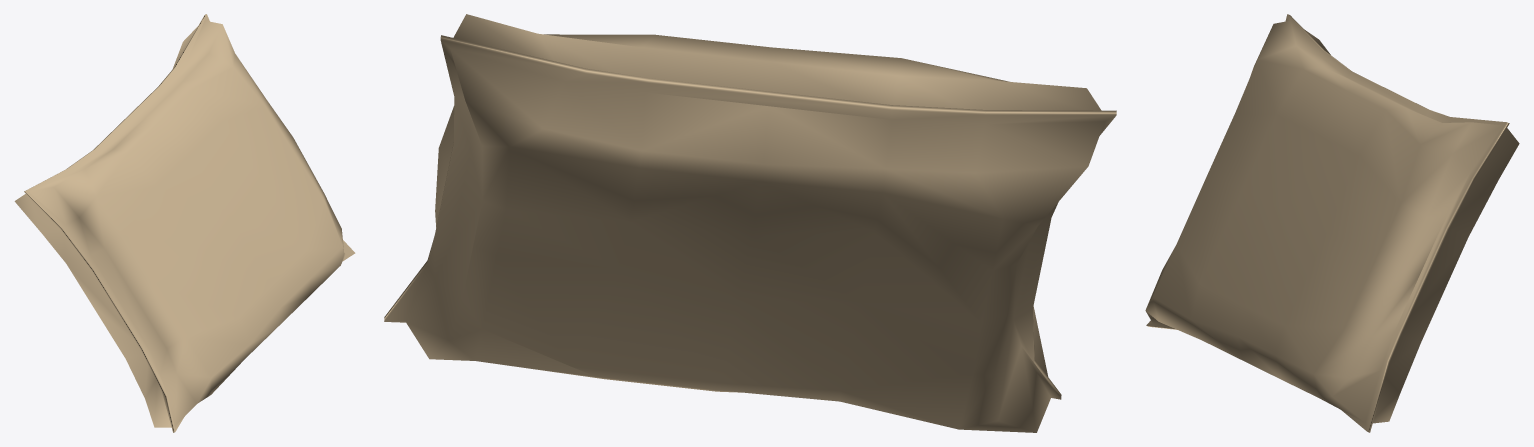
Rendered from Kussen groter.fbx.
The picture shows the model from 3 angles, left to right: view 1: azimuth 30°, elevation 25°; view 2: azimuth 150°, elevation 25°; view 3: azimuth 270°, elevation 25°; orthographic projection. The views are drawn at different scales.
Parts seen in each view (by area): view 1: Group1; view 2: Group1; view 3: Group1.
Part boxes in pixels (x1=…): Group1: x1=14, y1=14, x2=355, y2=432; Group1: x1=384, y1=14, x2=1116, y2=432; Group1: x1=1145, y1=14, x2=1519, y2=432.
Size of the model in its own units: 508 by 359 by 382.
